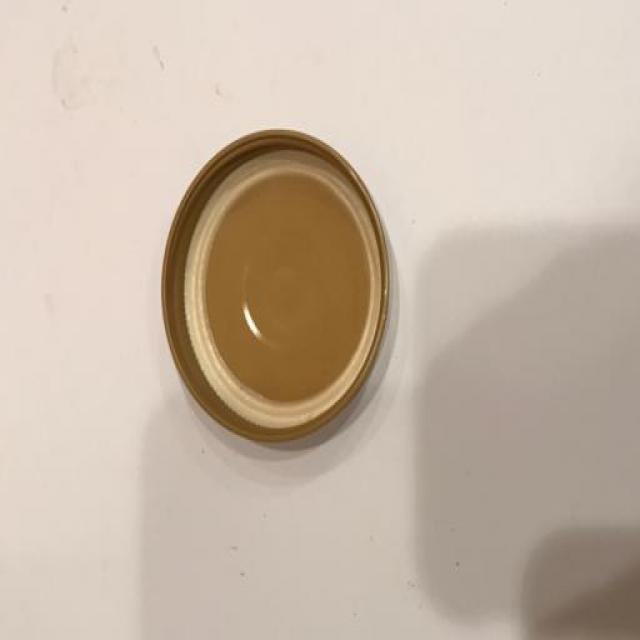metel: (162, 105, 403, 495)
